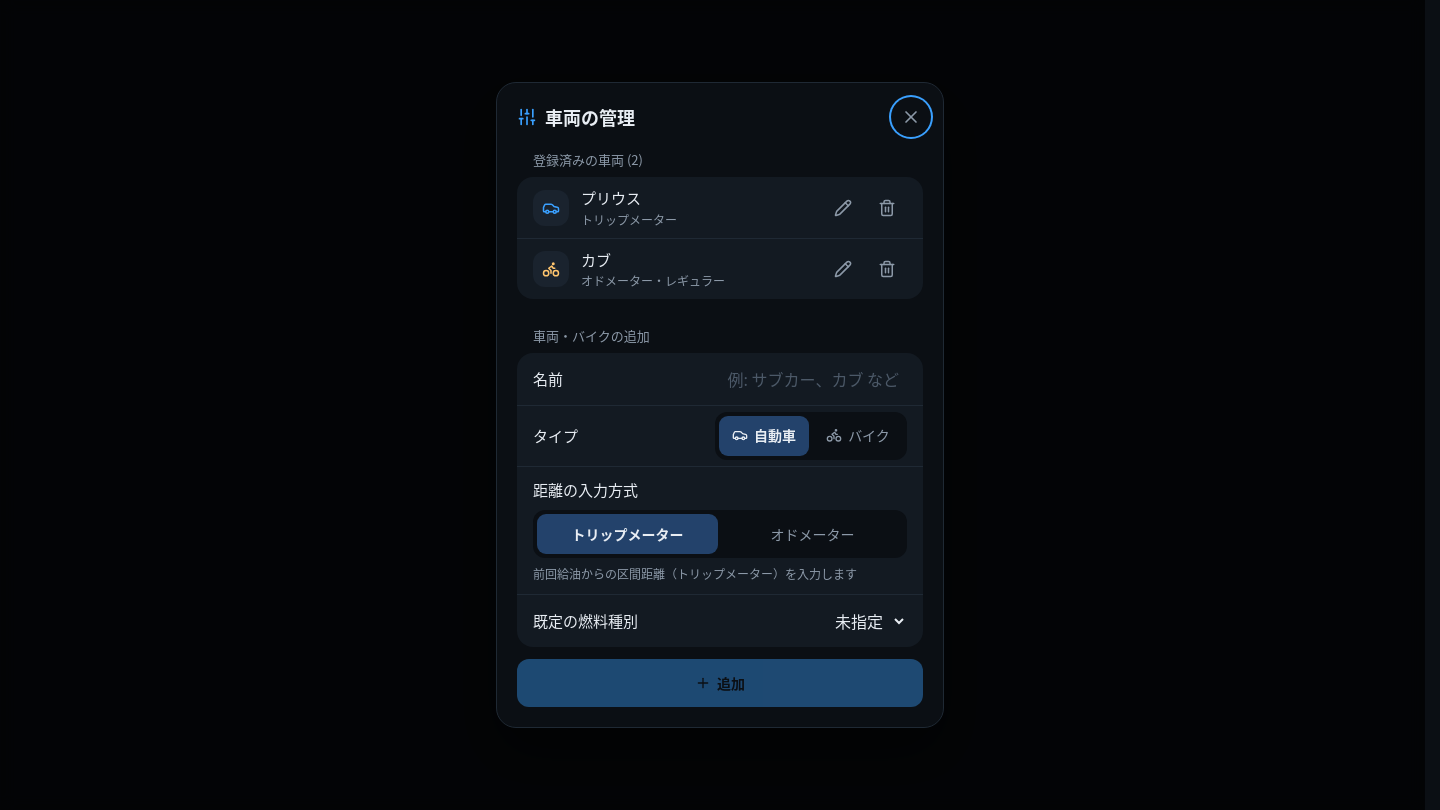
ManageVehiclesModal › 編集 › 方式を切り替えると注意文が出て、元に戻すと消える
Click the button named "「プリウス」を編集" at point(843, 208), box [823,188,863,228]
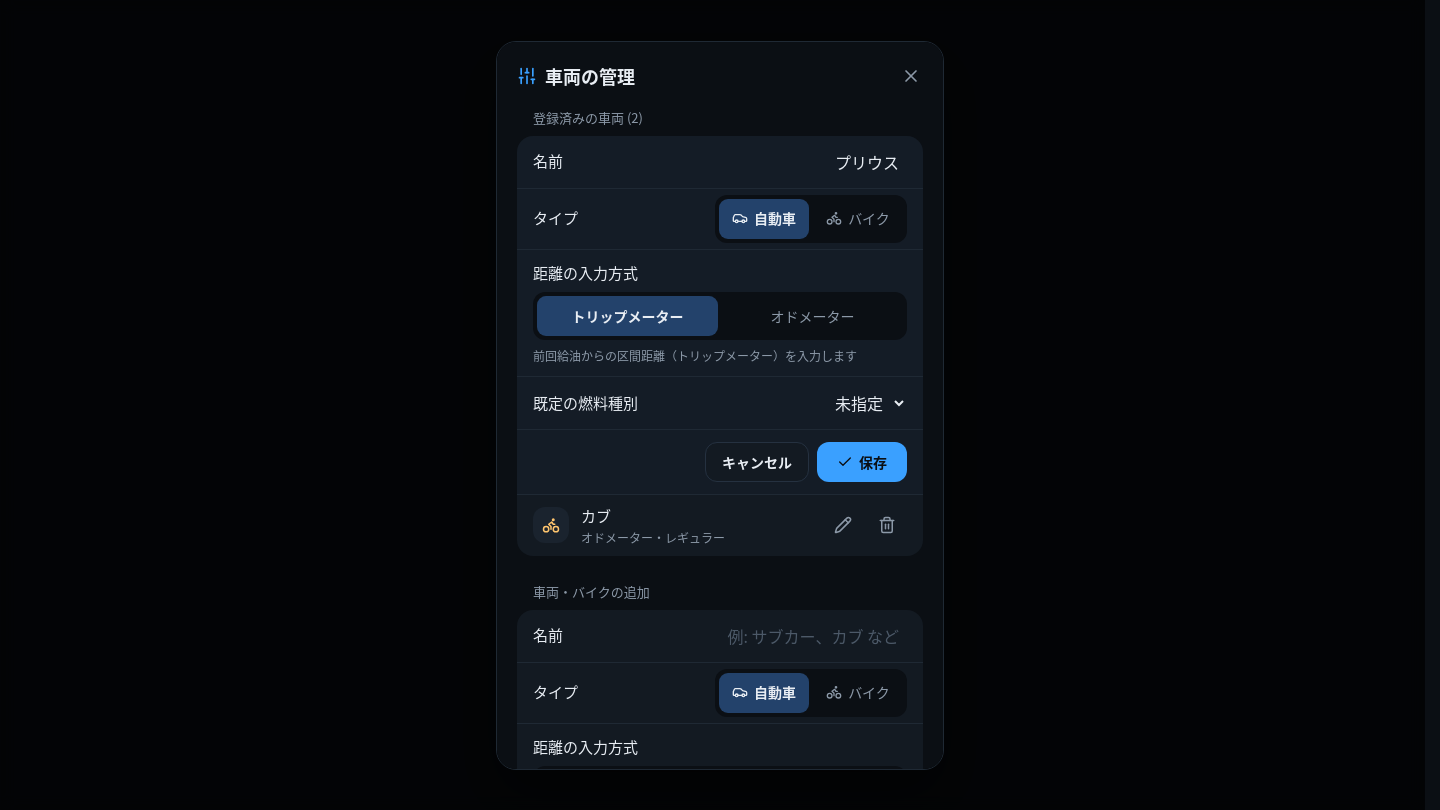
Click the button "オドメーター" at point(812, 316), box [722,296,903,336]
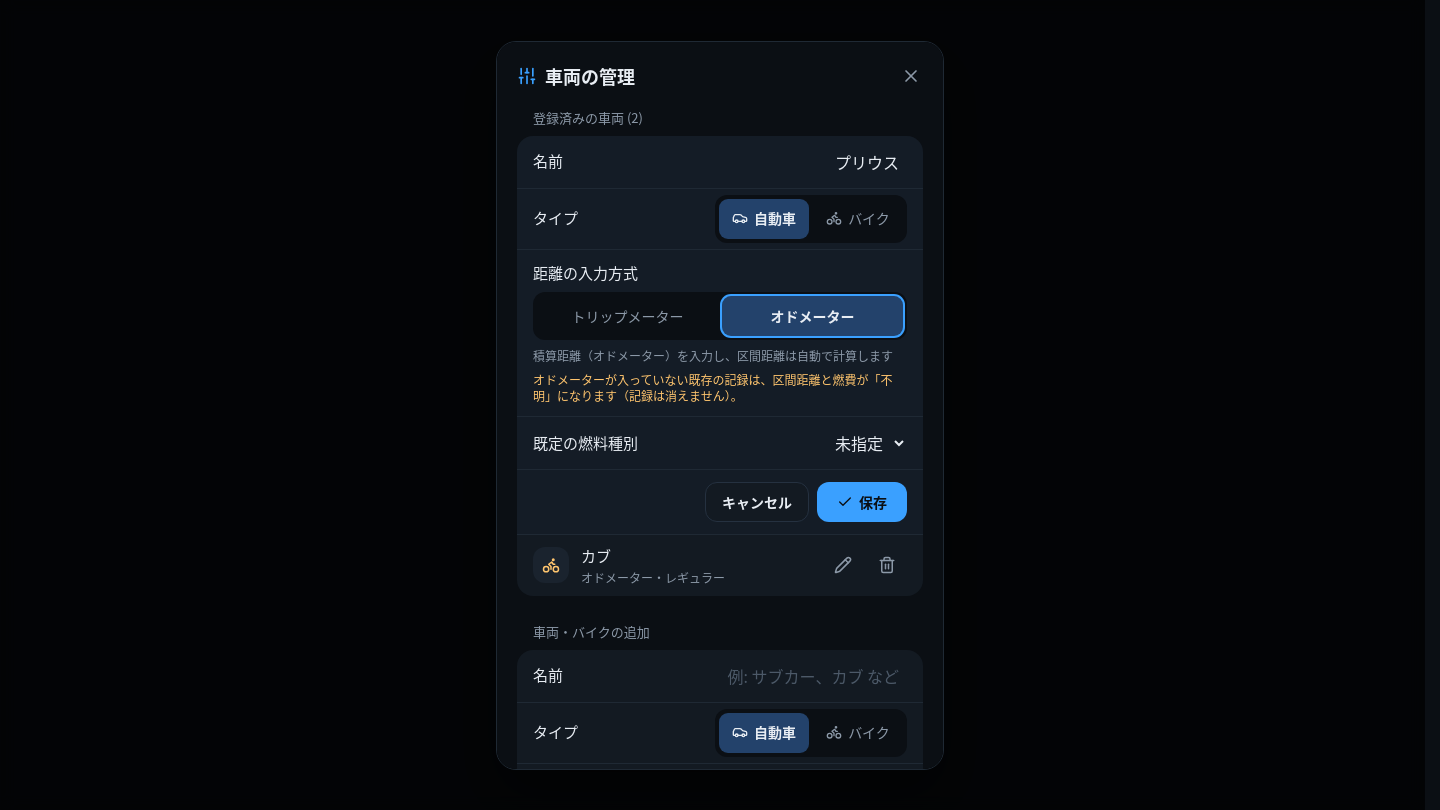
Expected: the text "オドメーターが入っていない既存の記録は、区間距離と燃費が「不明」になります（記録は消えません）。" is shown, [533,372,907,404]
Click the button "トリップメーター" at point(628, 316), box [537,296,718,336]
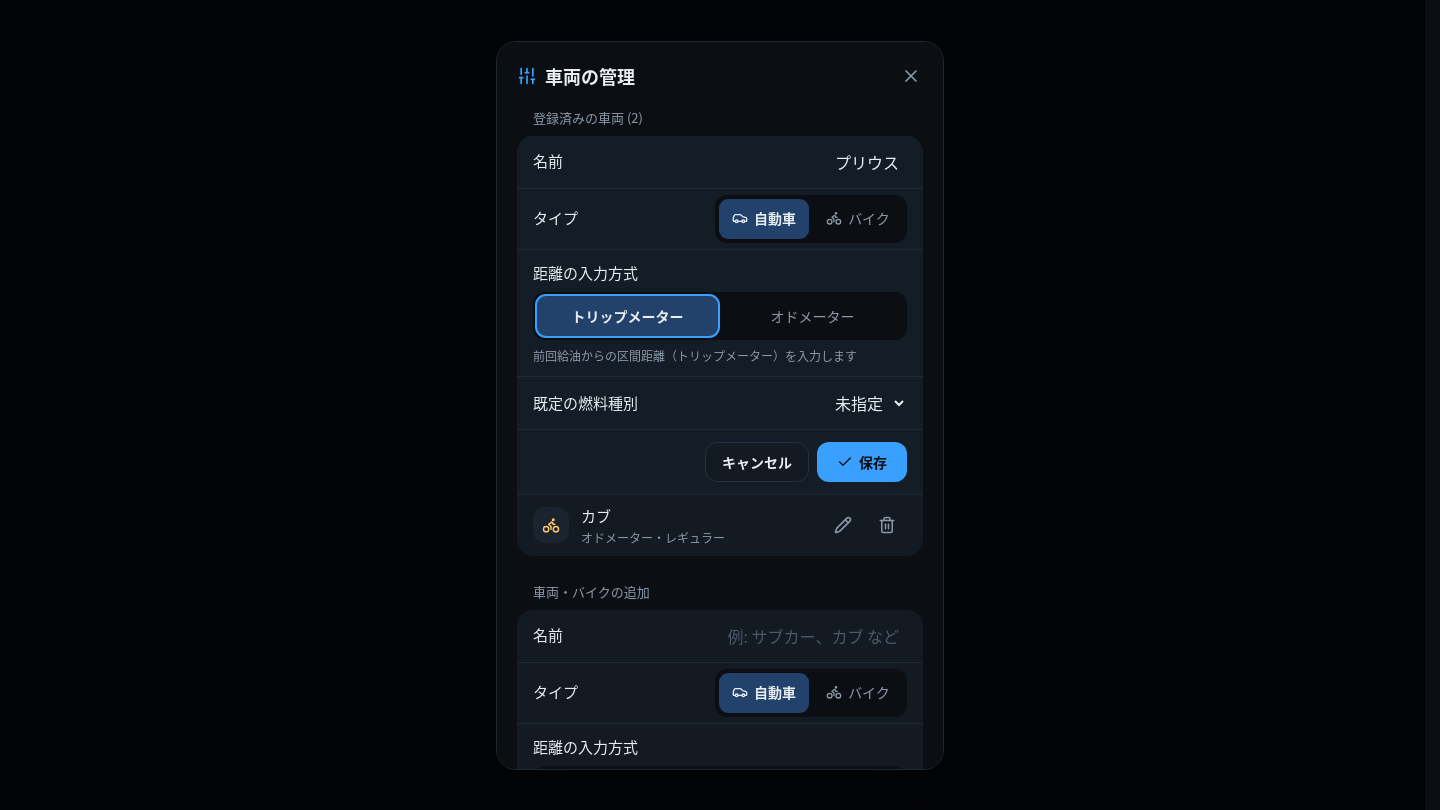
Expected: the text "区間距離と燃費が「不明」になります" is gone
